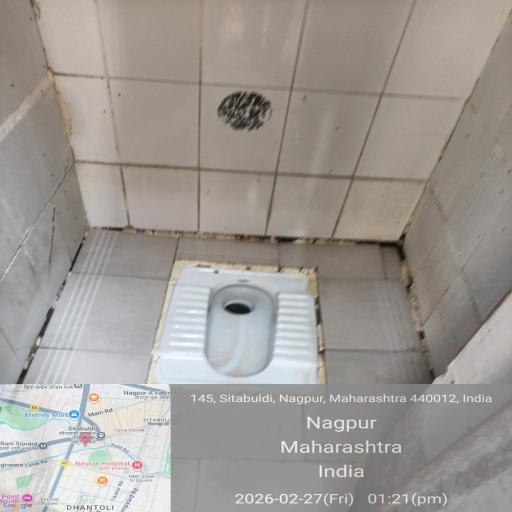clean_floor: (16, 16, 474, 248)
clean_indian: (134, 247, 331, 425)
